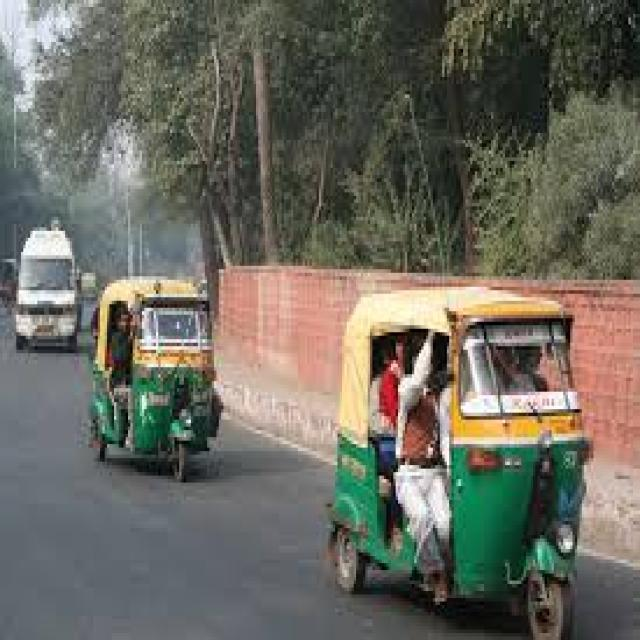auto_front: (330, 282, 592, 630), (90, 276, 226, 479)
bus_front: (13, 226, 85, 344)
